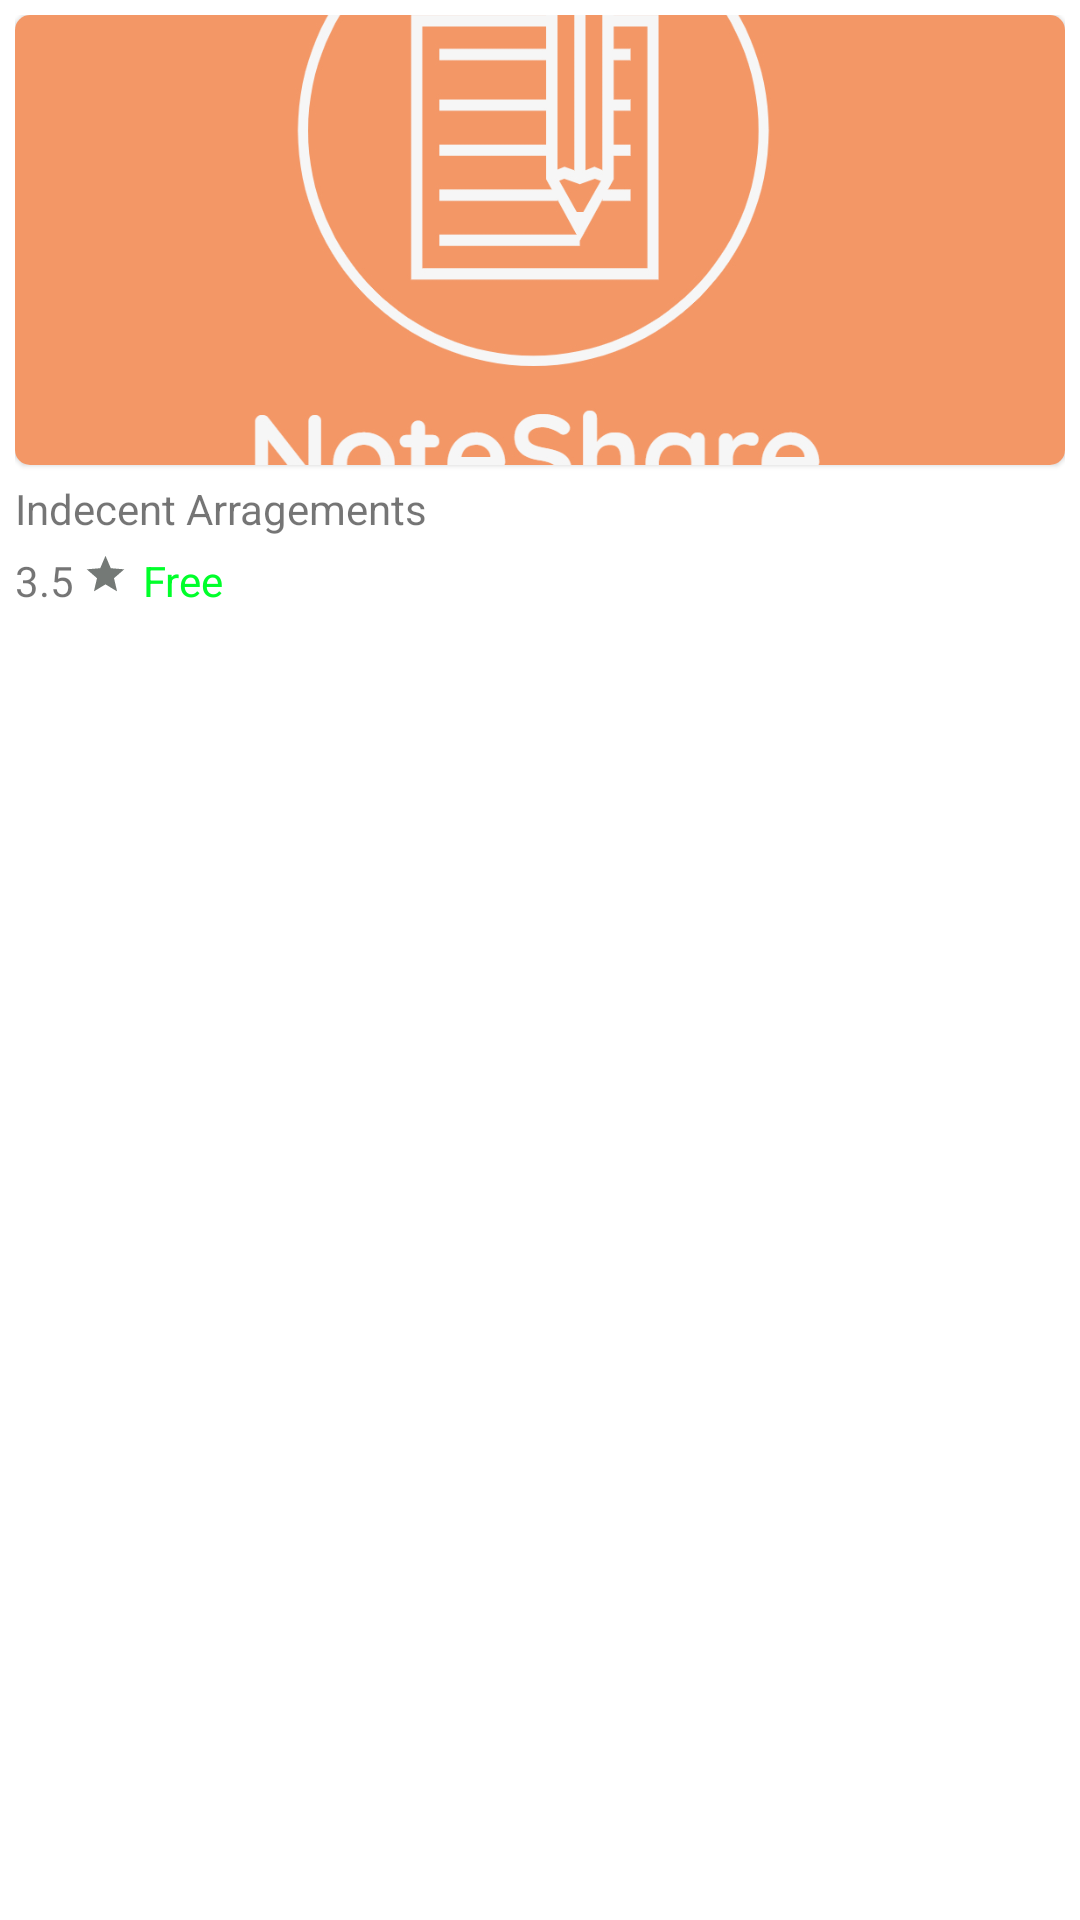

Named icons in this screenshot (1080*1920) and their bounding boxes, (x1, y1, x2, y2):
star: (87, 556, 124, 591)
